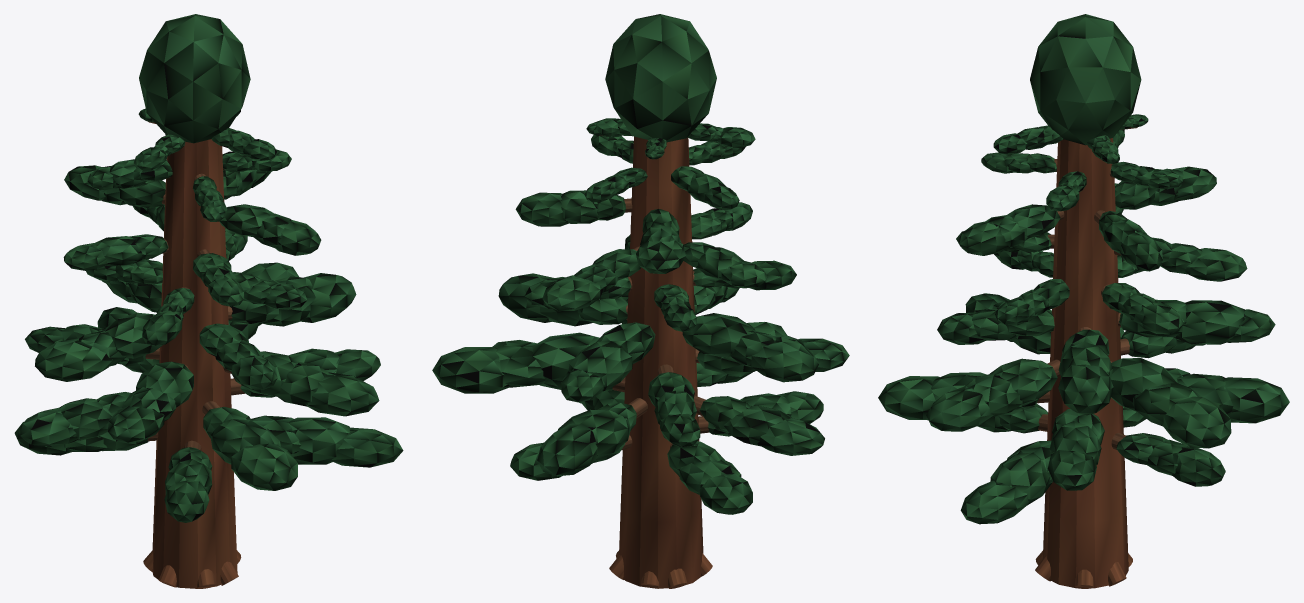
The model's file is standard-lod0.glb.
The picture shows the model from 3 angles, left to right: view 1: azimuth 30°, elevation 25°; view 2: azimuth 150°, elevation 25°; view 3: azimuth 270°, elevation 25°; orthographic projection.
Visible parts, largest first — view 1: pine-trunk-branches-needles; view 2: pine-trunk-branches-needles; view 3: pine-trunk-branches-needles.
Part boxes in pixels (box(x1,y1,x2,y2)): pine-trunk-branches-needles: box(14, 14, 403, 588); pine-trunk-branches-needles: box(432, 14, 849, 588); pine-trunk-branches-needles: box(878, 14, 1289, 588).
Size of the model in its own units: 12.87 by 19.75 by 13.23.
